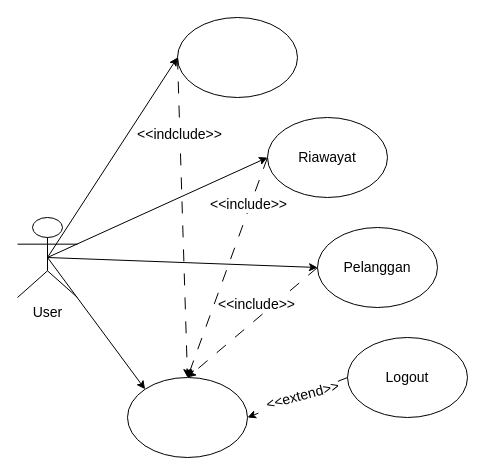
Image size: 485x475. Some labels were removed from this diagram. Each missing label, with the centre of its shape:
"Bookings" goes at point 237,57.
"Login" goes at point 187,417.
